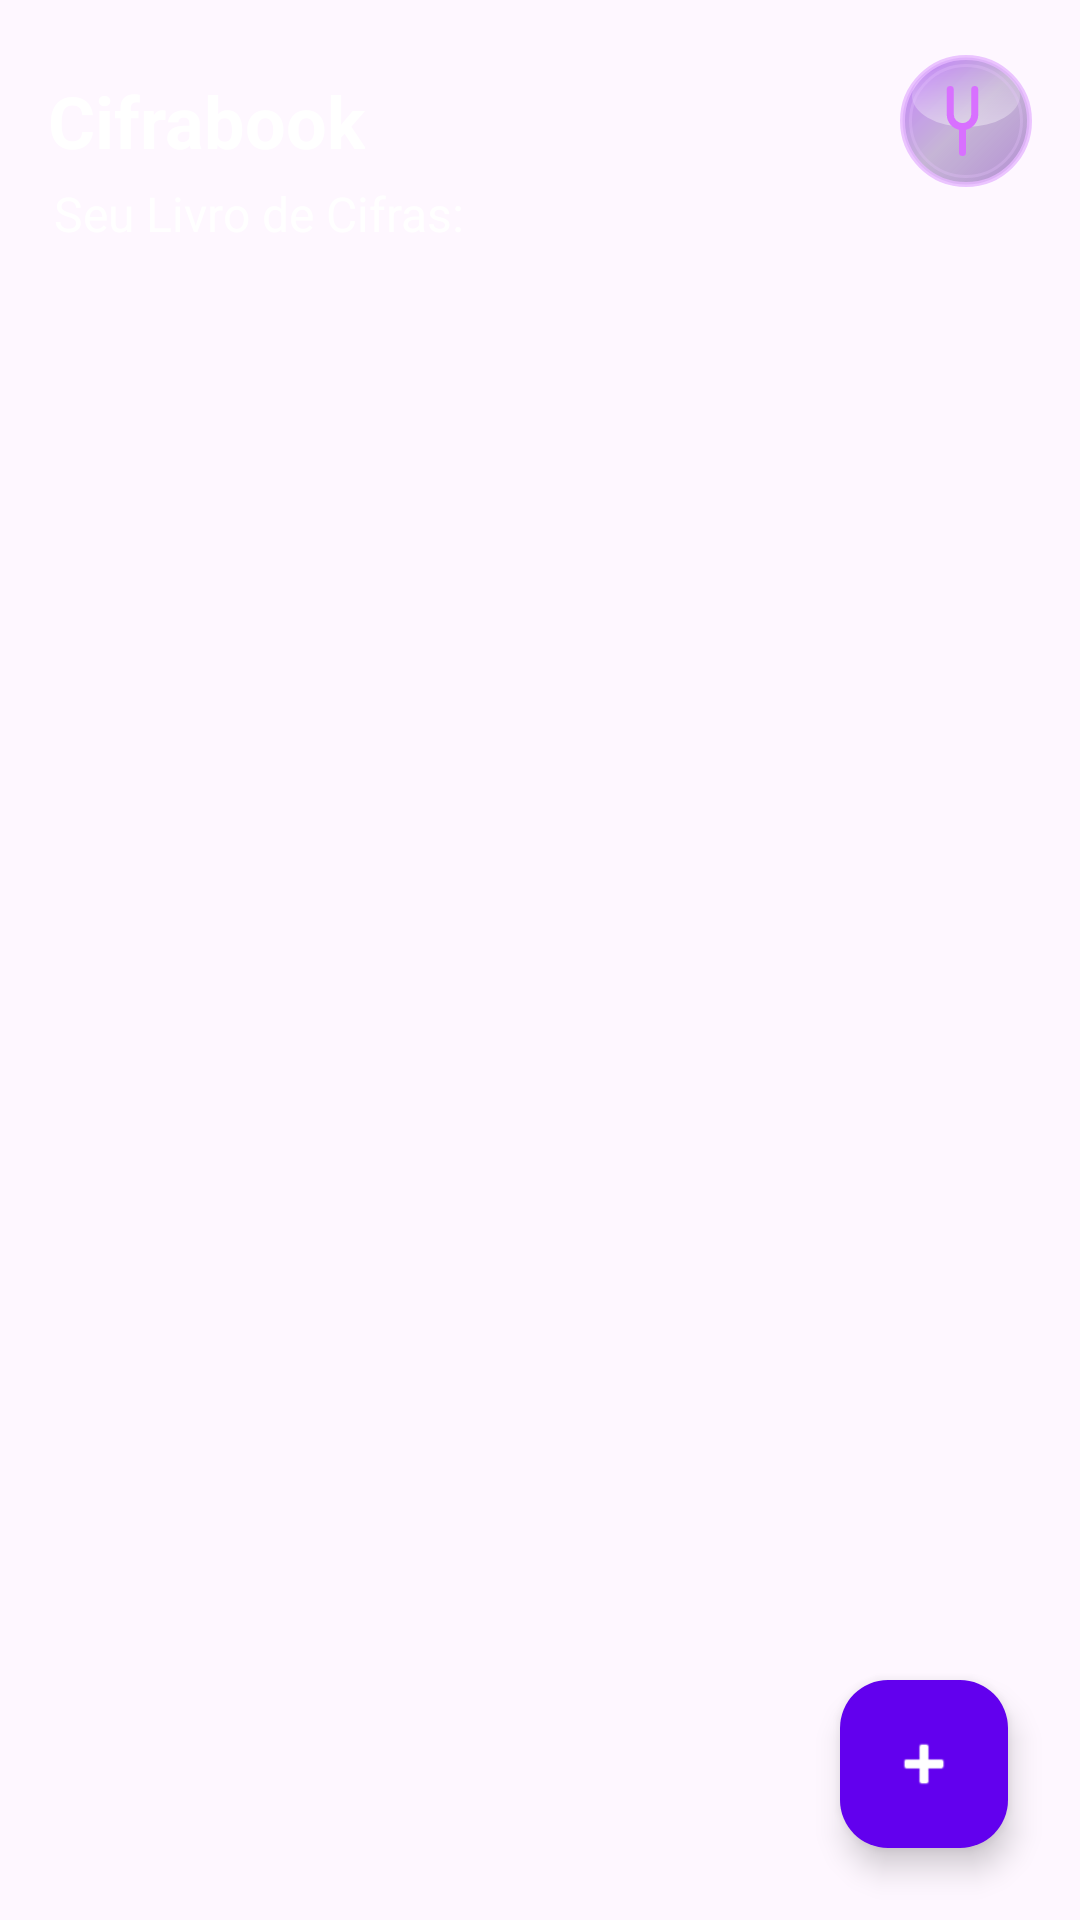

Icon bounding boxes for this 1080×1920 phone screenshot, format (x1,y1,x2,y2):
Adicionar Cifra PDF: (840,1680,1008,1848)
Afinador: (900,55,1032,187)
